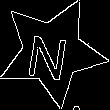N_N: (28, 24, 76, 81)
